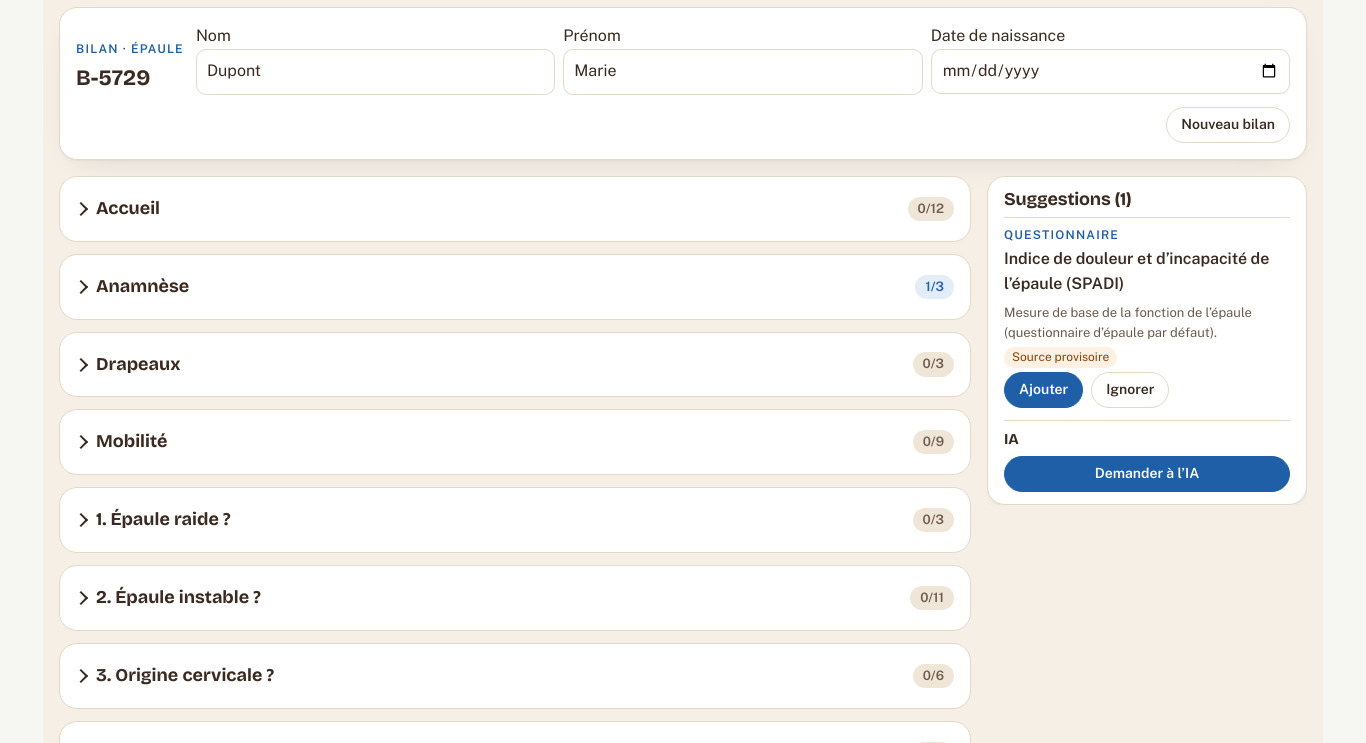
Test: Demander à l’IA › réponse illisible
Click the button "Demander à l’IA" at (1147, 474), box [1004, 456, 1290, 492]
(page scrolled)
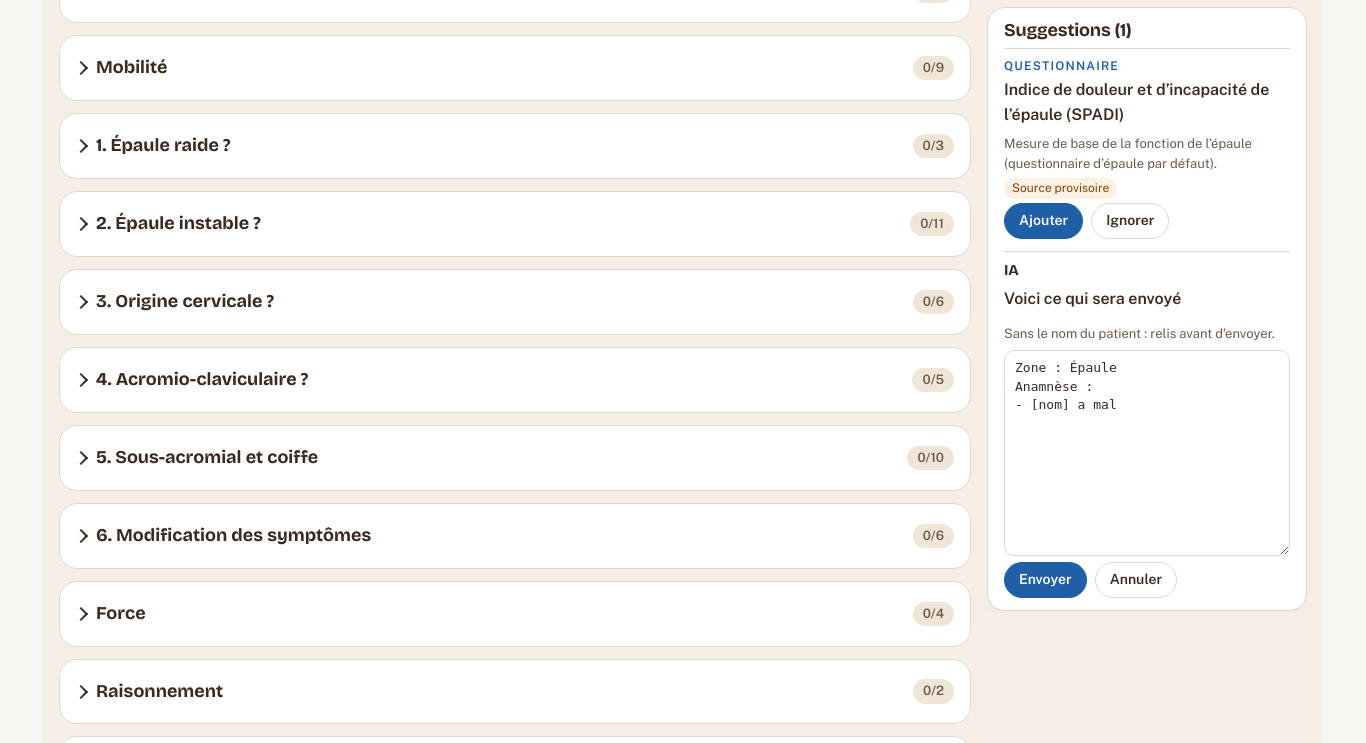
Click the button "Envoyer" at (1045, 580), box [1004, 562, 1087, 598]
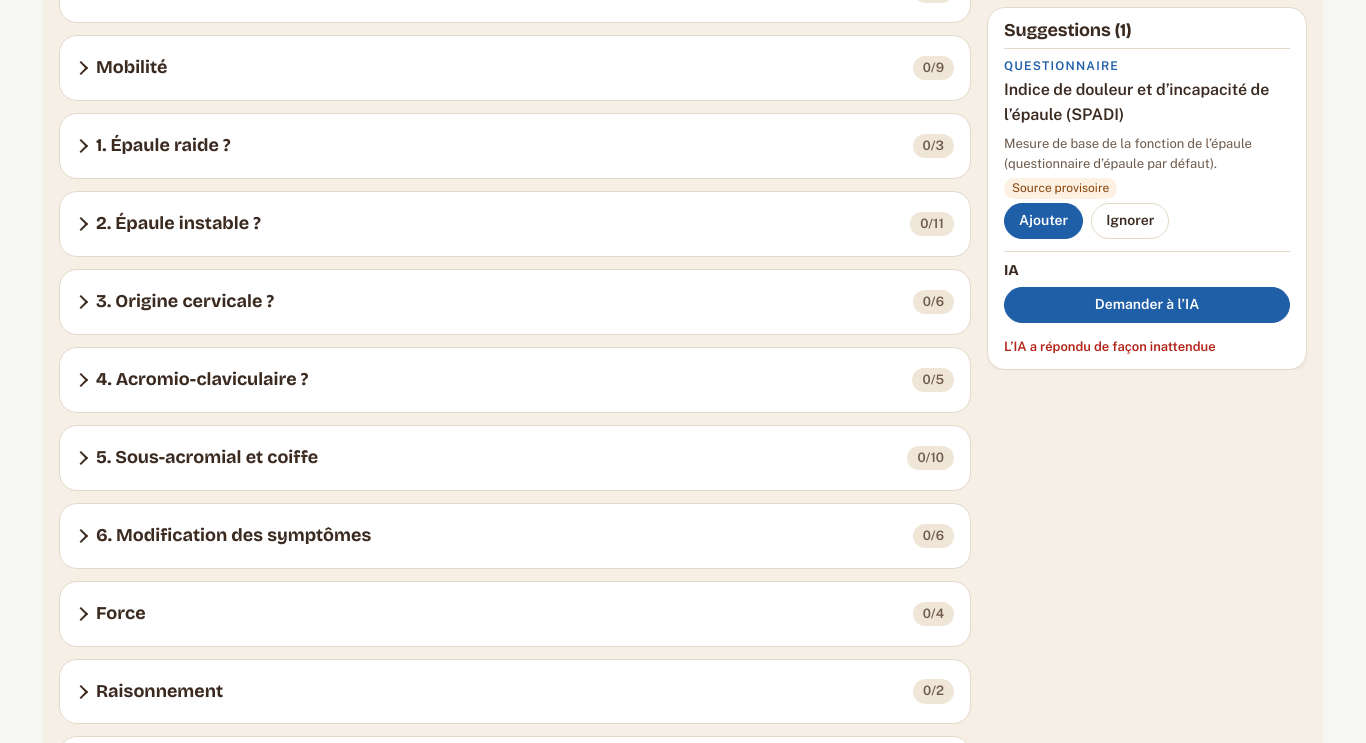
Check: the text "L’IA a répondu de façon inattendue" is shown, box [1004, 339, 1216, 354]
